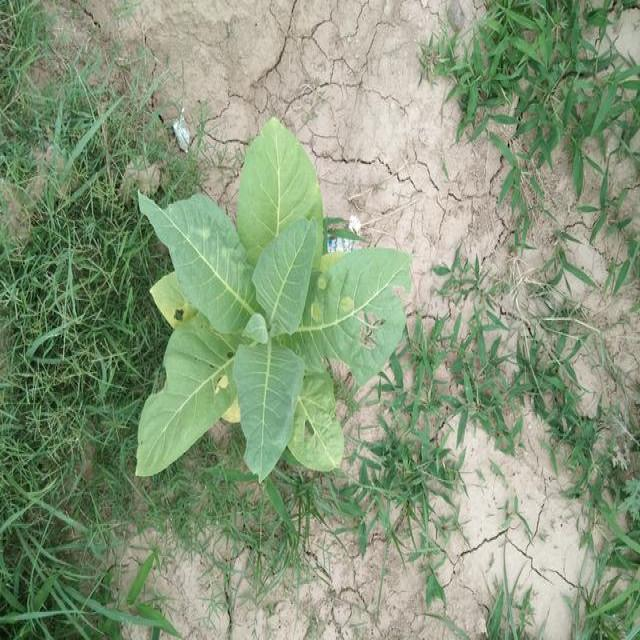crop: (126, 104, 418, 500)
